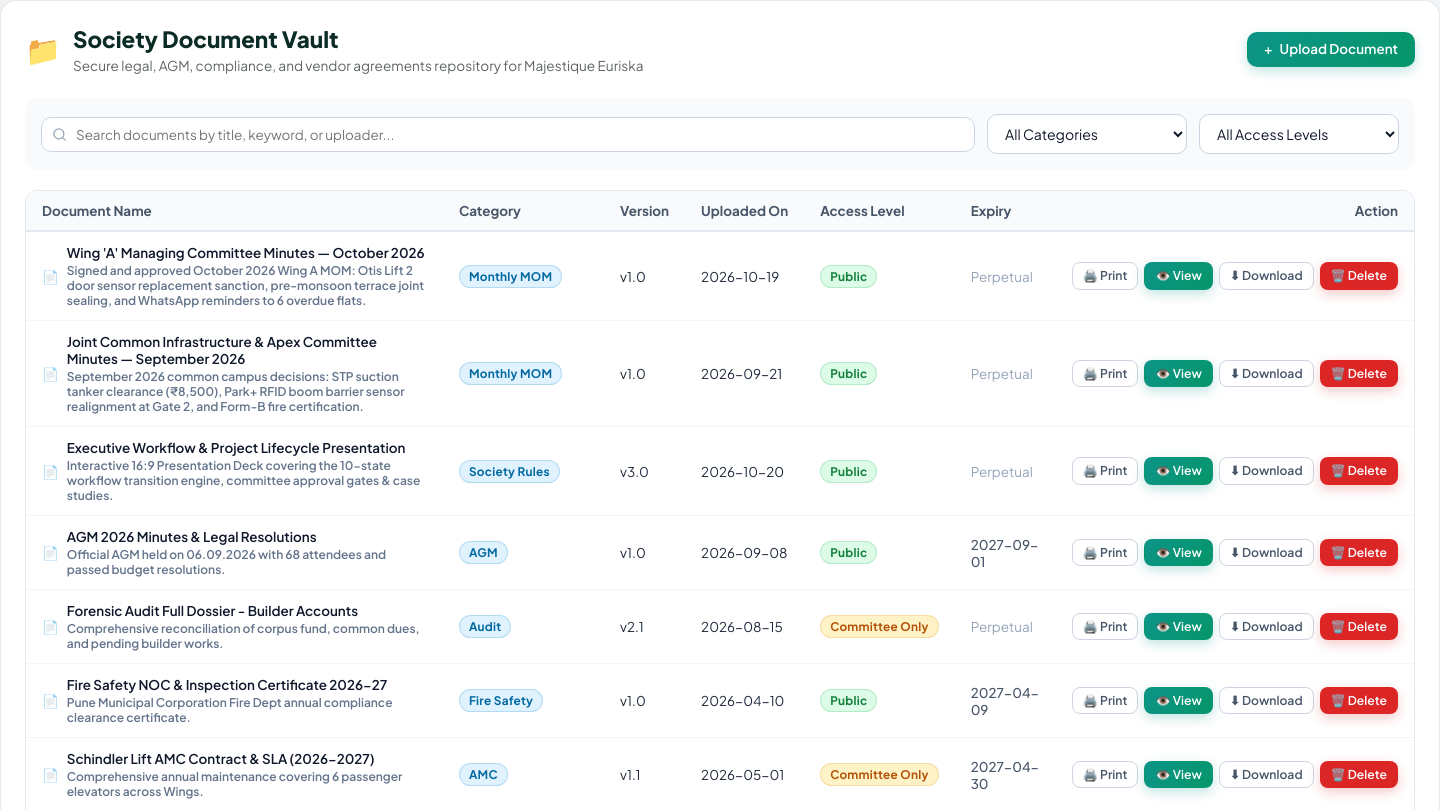
Test: DocumentManager Component › shows delete buttons for admin/committee members and opens delete confirmation modal
Step 1. Click the button with test id "delete-doc-btn-doc-001" → (1359, 552), box left=1320, top=539, right=1398, bottom=566
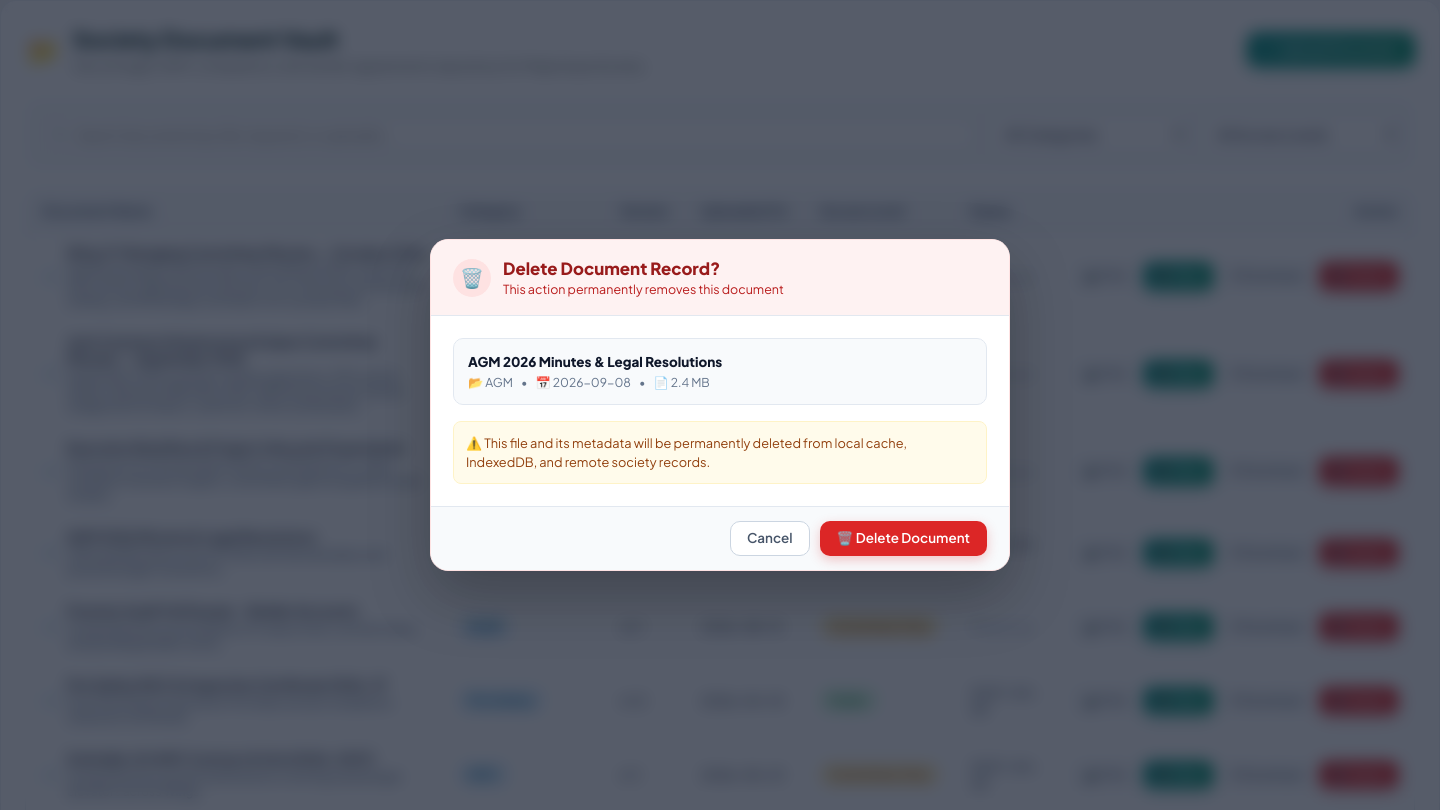
Check: the element with test id "delete-doc-modal" is shown
Check: the heading "Delete Document Record?" is shown, box left=503, top=258, right=720, bottom=279
Note: Cancel closes modal
Step 2. Click the button with test id "cancel-delete-doc-btn" → (770, 538), box left=730, top=521, right=810, bottom=556
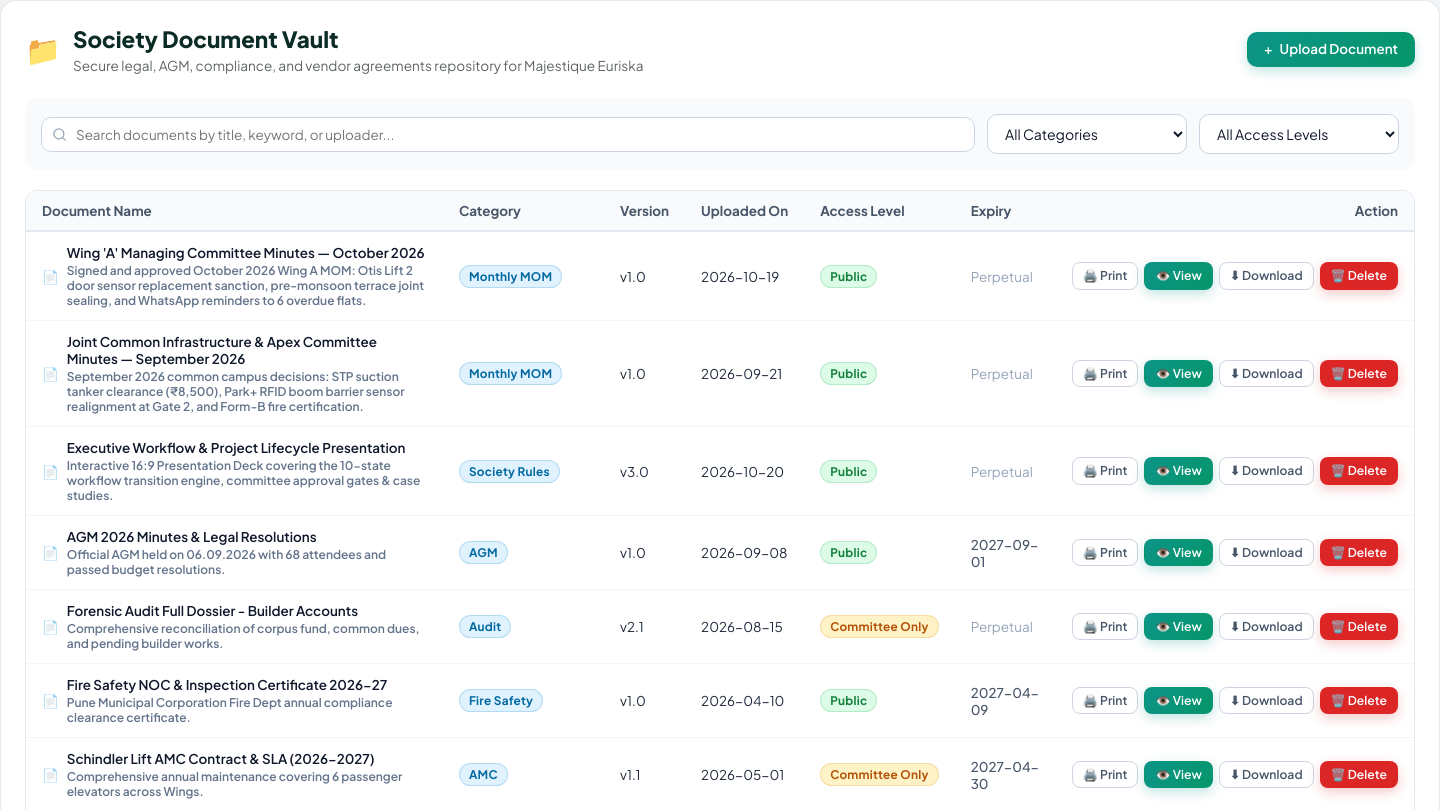
Check: the text "AGM 2026 Minutes & Legal Resolutions" is shown, box left=67, top=528, right=317, bottom=545
Check: the element with test id "delete-doc-modal" is gone
